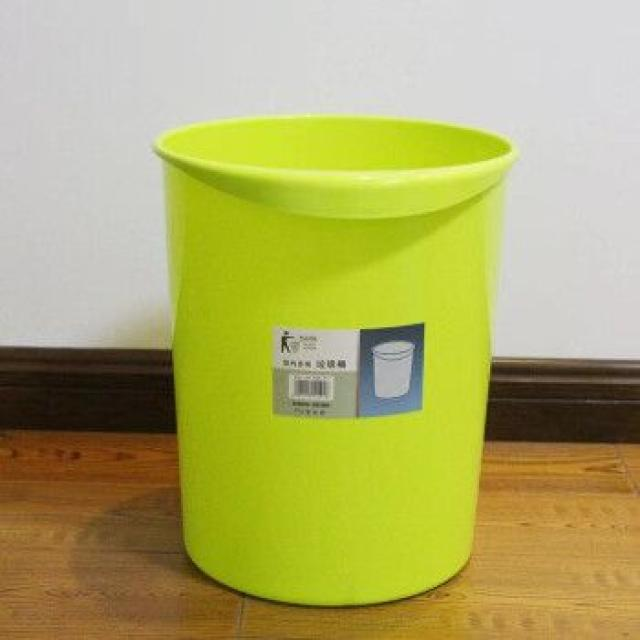dustbin: (148, 108, 523, 612)
